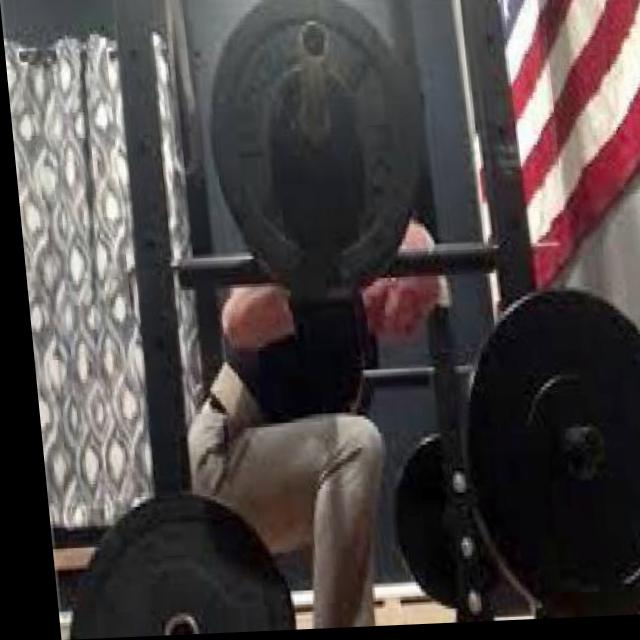barbell: (188, 1, 440, 300)
